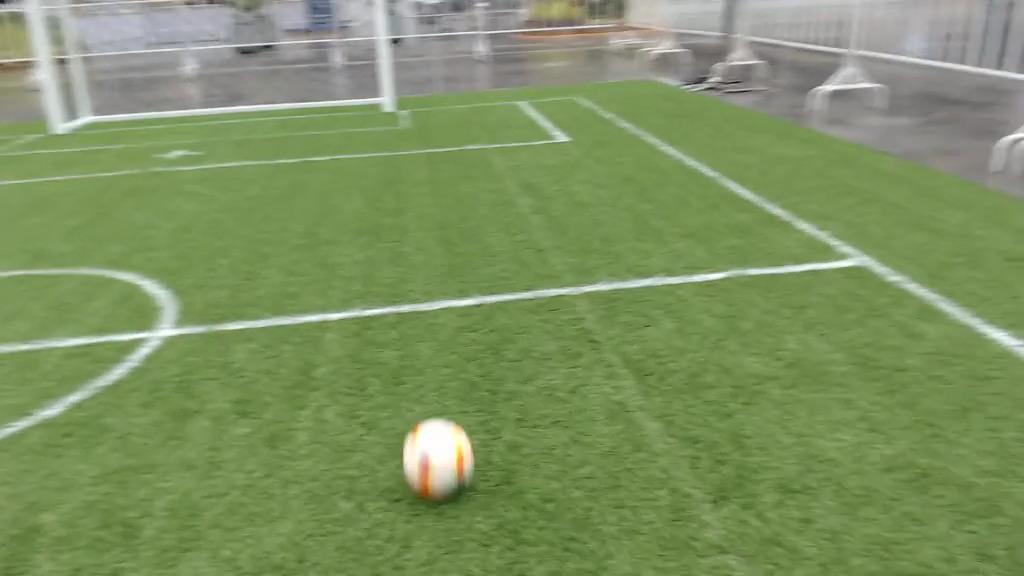ball: (402, 419, 472, 501)
